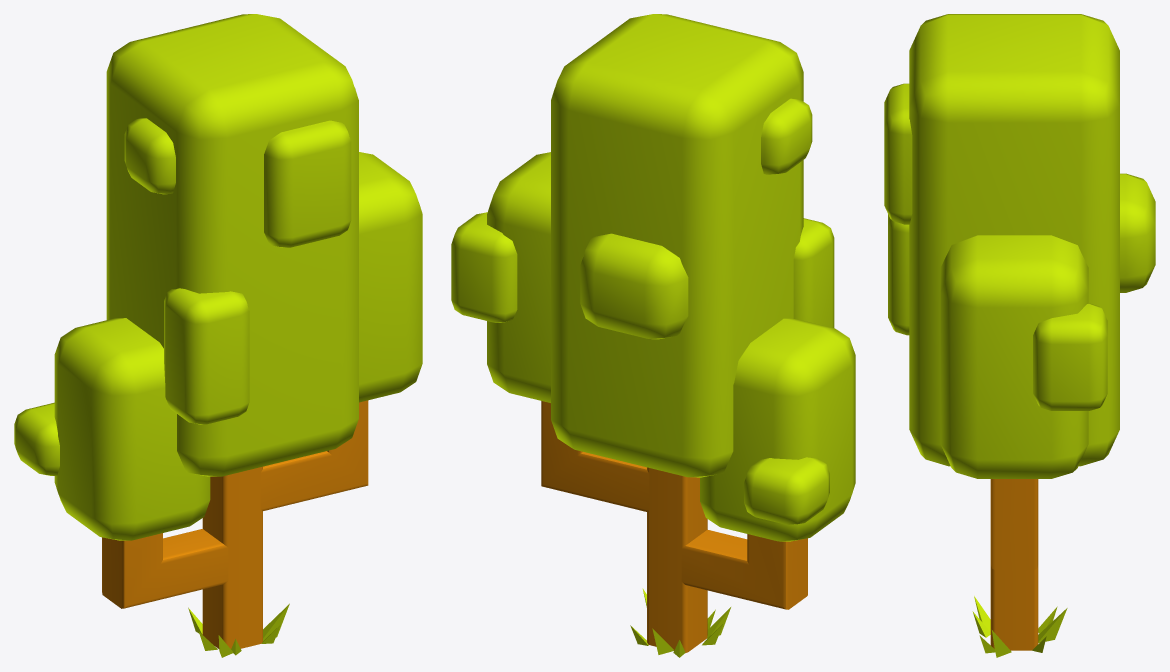
The model's file is tree.fbx.
The picture shows the model from 3 angles, left to right: view 1: azimuth 30°, elevation 25°; view 2: azimuth 150°, elevation 25°; view 3: azimuth 270°, elevation 25°; orthographic projection.
Parts seen in each view (by area): view 1: tree; view 2: tree; view 3: tree.
Boxes of the visible parts, <box> form: tree: <box>14,14,422,657</box>; tree: <box>451,14,855,657</box>; tree: <box>884,14,1155,657</box>.
Bounding box in the file's own units: 392 × 609 × 250.
